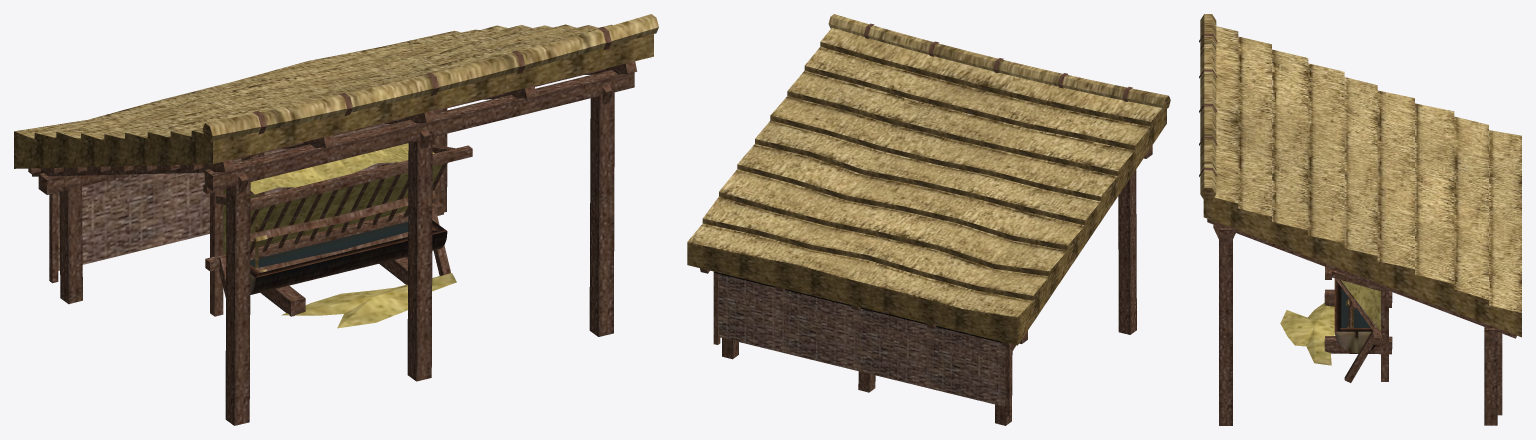
File: pen.glb
3 views of the same model, side by side, from view 1: azimuth 30°, elevation 25°; view 2: azimuth 150°, elevation 25°; view 3: azimuth 270°, elevation 25° (orthographic). The views are drawn at different scales.
Parts seen in each view (by area): view 1: shelter, hay-rack, trough, gate; view 2: shelter; view 3: shelter, hay-rack, trough.
Part boxes in pixels (x1=…): shelter: x1=14, y1=14, x2=658, y2=425; hay-rack: x1=203, y1=136, x2=472, y2=328; trough: x1=250, y1=220, x2=447, y2=316; gate: x1=250, y1=190, x2=436, y2=272; shelter: x1=687, y1=14, x2=1170, y2=425; shelter: x1=1199, y1=14, x2=1521, y2=425; hay-rack: x1=1280, y1=267, x2=1388, y2=382; trough: x1=1324, y1=278, x2=1392, y2=354.
Size of the model in its own units: 4.66 by 3.14 by 3.65.
2 materials, 2 textured.
